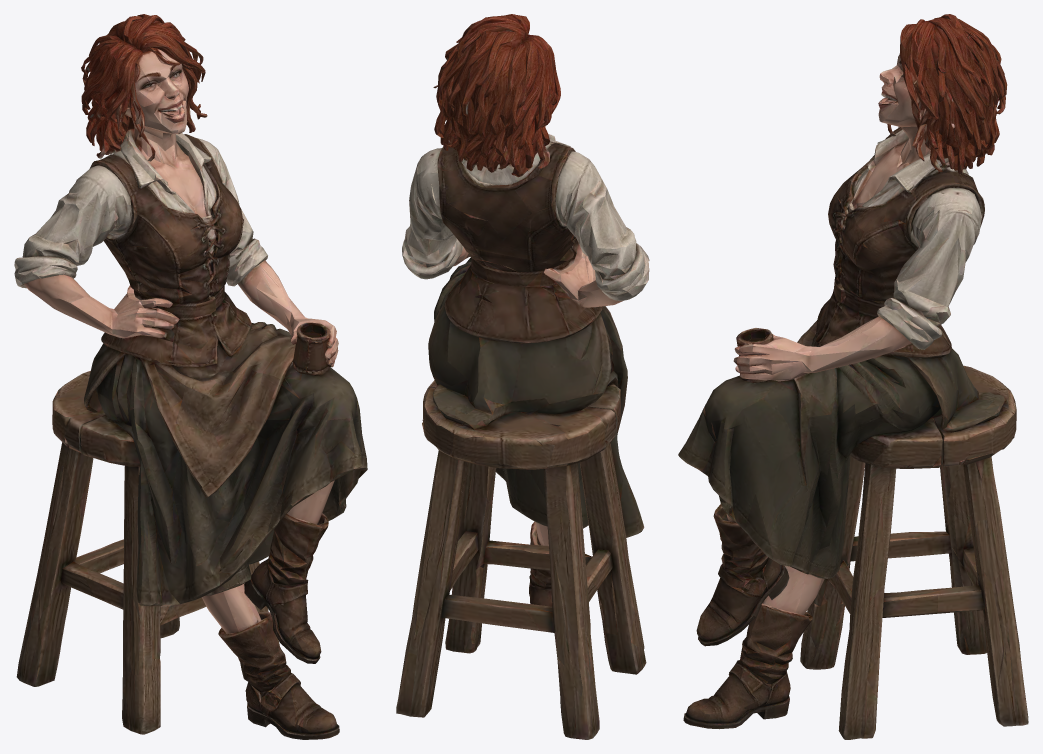
The model's file is taverniere.glb.
The picture shows the model from 3 angles, left to right: view 1: azimuth 30°, elevation 25°; view 2: azimuth 150°, elevation 25°; view 3: azimuth 270°, elevation 25°; orthographic projection. The views are drawn at different scales.
Visible parts, largest first — view 1: Mesh_0; view 2: Mesh_0; view 3: Mesh_0.
Part boxes in pixels (left/top/right/bottom): Mesh_0: left=14, top=14, right=367, bottom=739; Mesh_0: left=396, top=14, right=649, bottom=739; Mesh_0: left=678, top=14, right=1028, bottom=739.
Bounding box in the file's own units: 0.7629 × 1.9 × 0.8933.
Materials: 1 (1 with a texture image).
